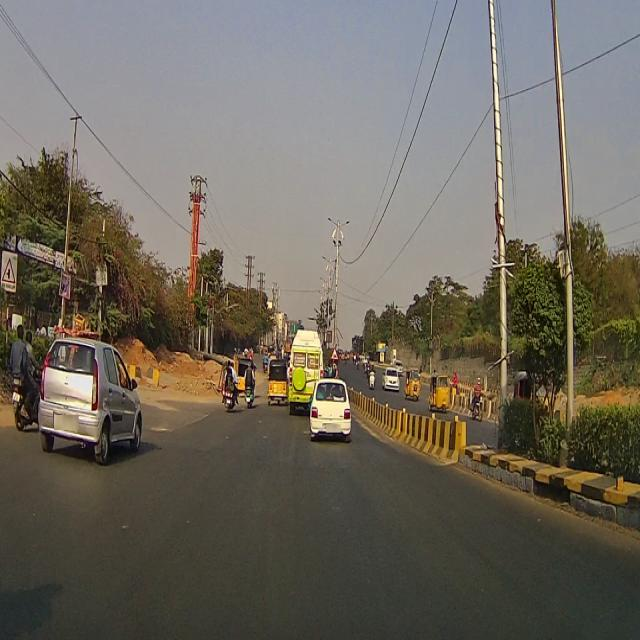side-road-left: (0, 252, 18, 293)
